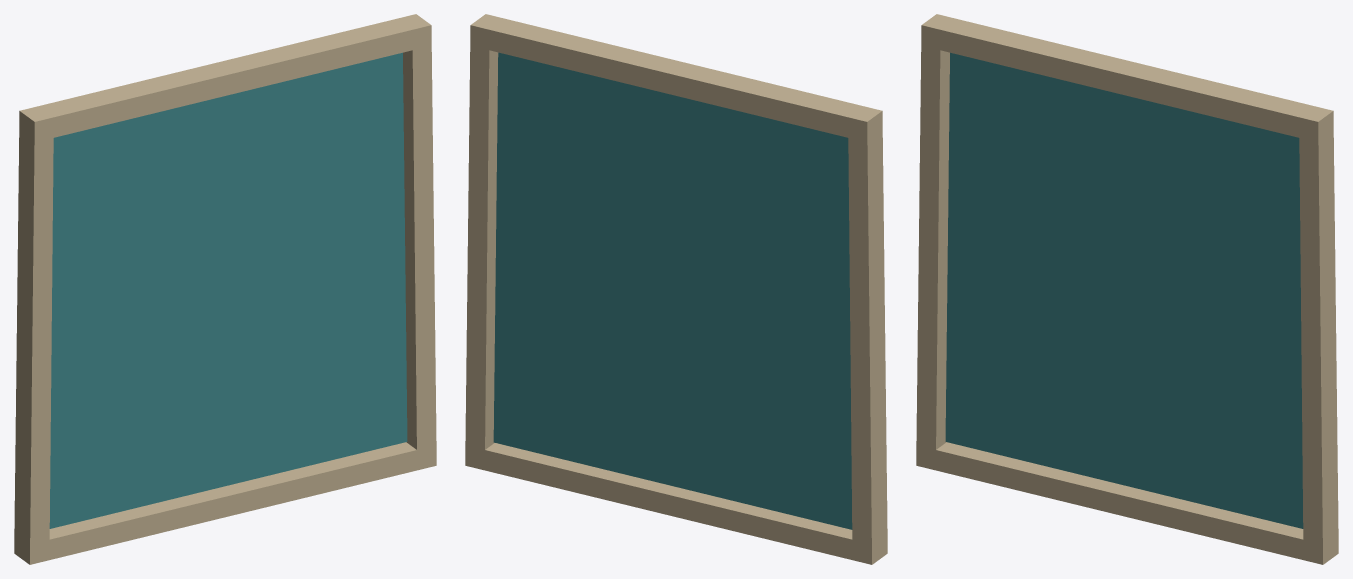
Rendered from side_window.glb.
The picture shows the model from 3 angles, left to right: view 1: azimuth 30°, elevation 25°; view 2: azimuth 150°, elevation 25°; view 3: azimuth 330°, elevation 25°; orthographic projection.
Parts seen in each view (by area): view 1: WB002V2_SideGlass.005, WB002V2_SideWindowFrame.005; view 2: WB002V2_SideGlass.005, WB002V2_SideWindowFrame.005; view 3: WB002V2_SideGlass.005, WB002V2_SideWindowFrame.005.
Boxes of the visible parts, box(x1,y1,x2,y2) form: WB002V2_SideGlass.005: box(49, 52, 407, 528); WB002V2_SideWindowFrame.005: box(14, 14, 436, 564); WB002V2_SideGlass.005: box(493, 52, 852, 529); WB002V2_SideWindowFrame.005: box(465, 14, 887, 564); WB002V2_SideGlass.005: box(945, 52, 1303, 528); WB002V2_SideWindowFrame.005: box(916, 14, 1338, 564).
Bounding box in the file's own units: 2.7 × 2.8 × 0.18.
